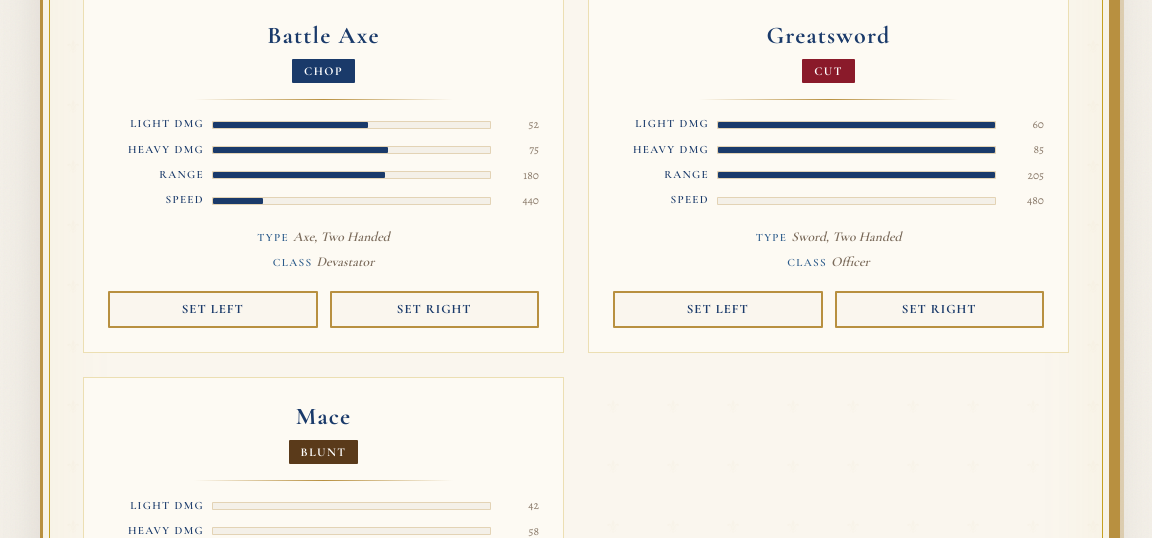
Test: HomepageView › supports comparison selection and clear
The image size is (1152, 538).
(page scrolled)
Click the button "Set Left" below "Devastator".
click(213, 310)  # box [108,291,318,328]
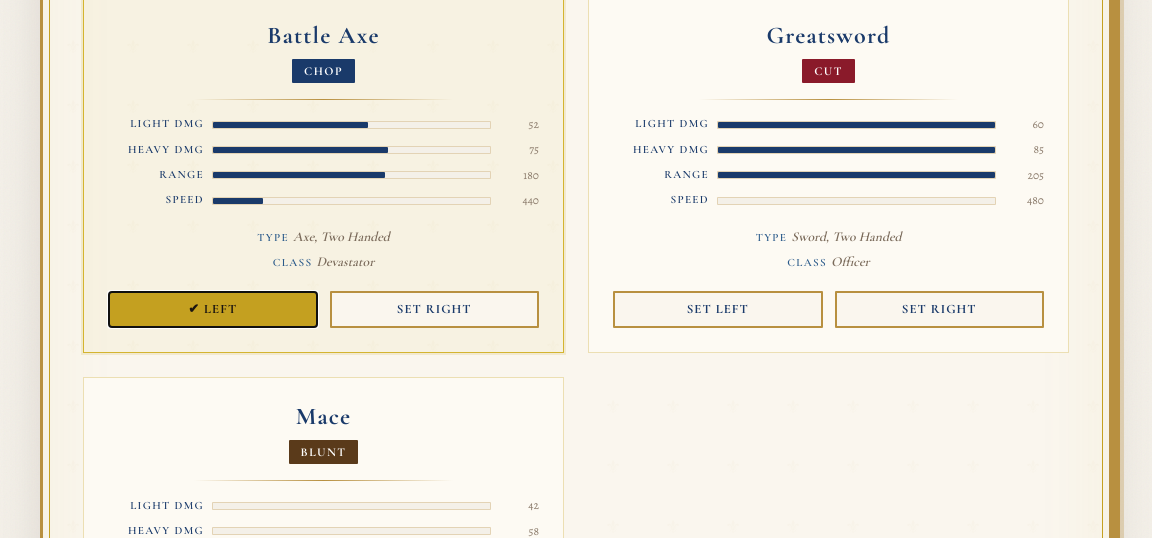
Click the button "Set Right" below "Officer".
click(939, 310)  # box [834,291,1044,328]
(page scrolled)
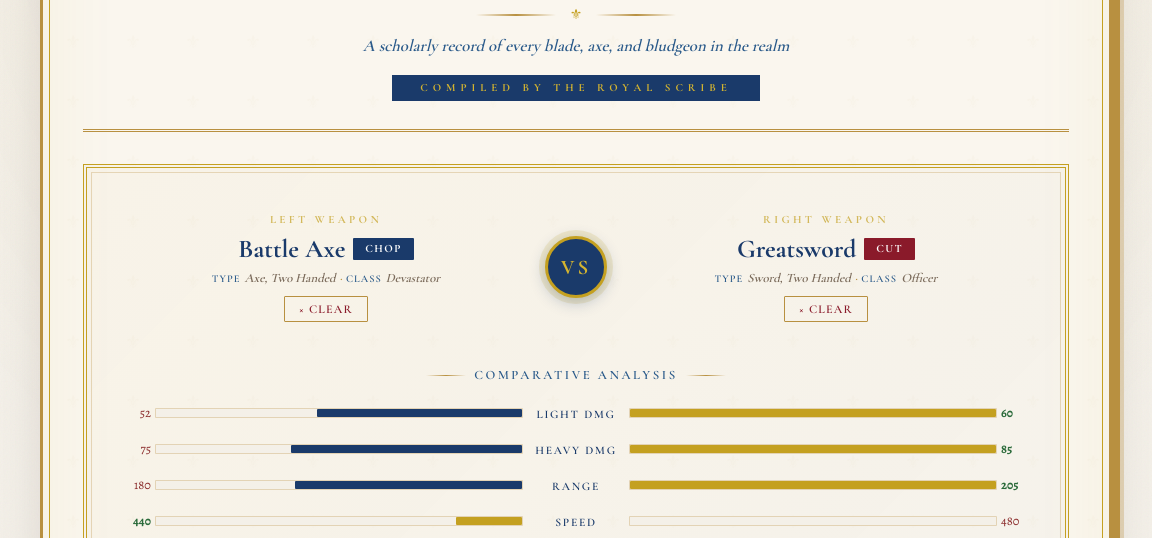
Now the text "Comparative Analysis" is shown, box [474,367,678,383]
Now the number of buttons "× Clear" is 2
Click the button "× Clear" below "Left Weapon".
click(326, 309)  # box [284,296,368,322]
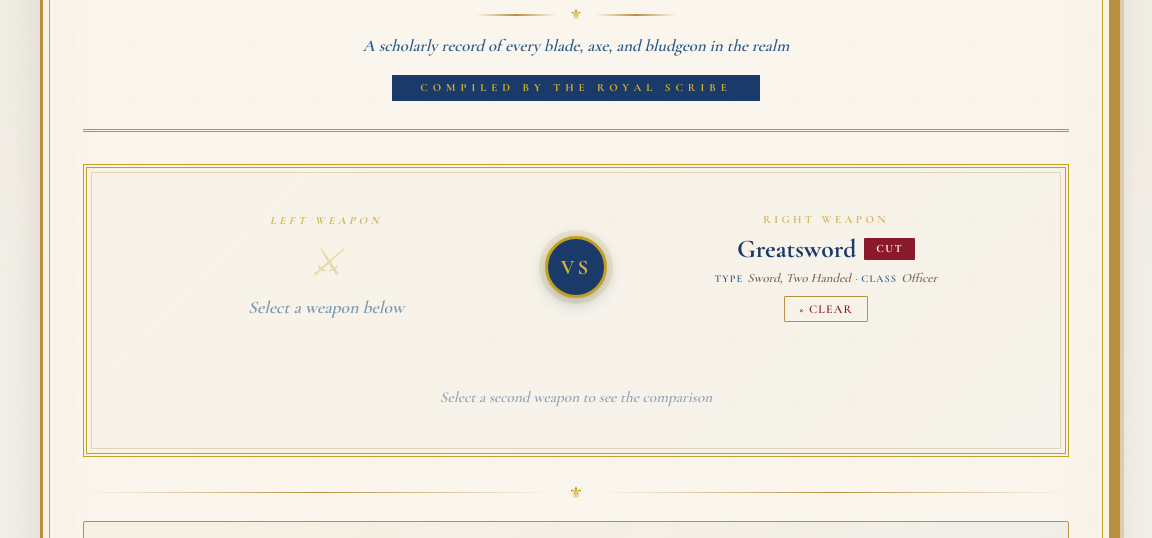
Now the text "Select a second weapon to see the comparison" is shown, box [440,388,712,406]
